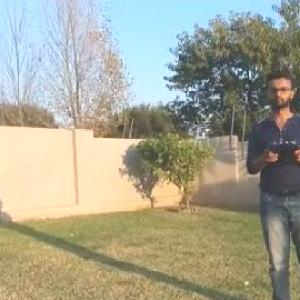follow: (241, 63, 299, 299)
